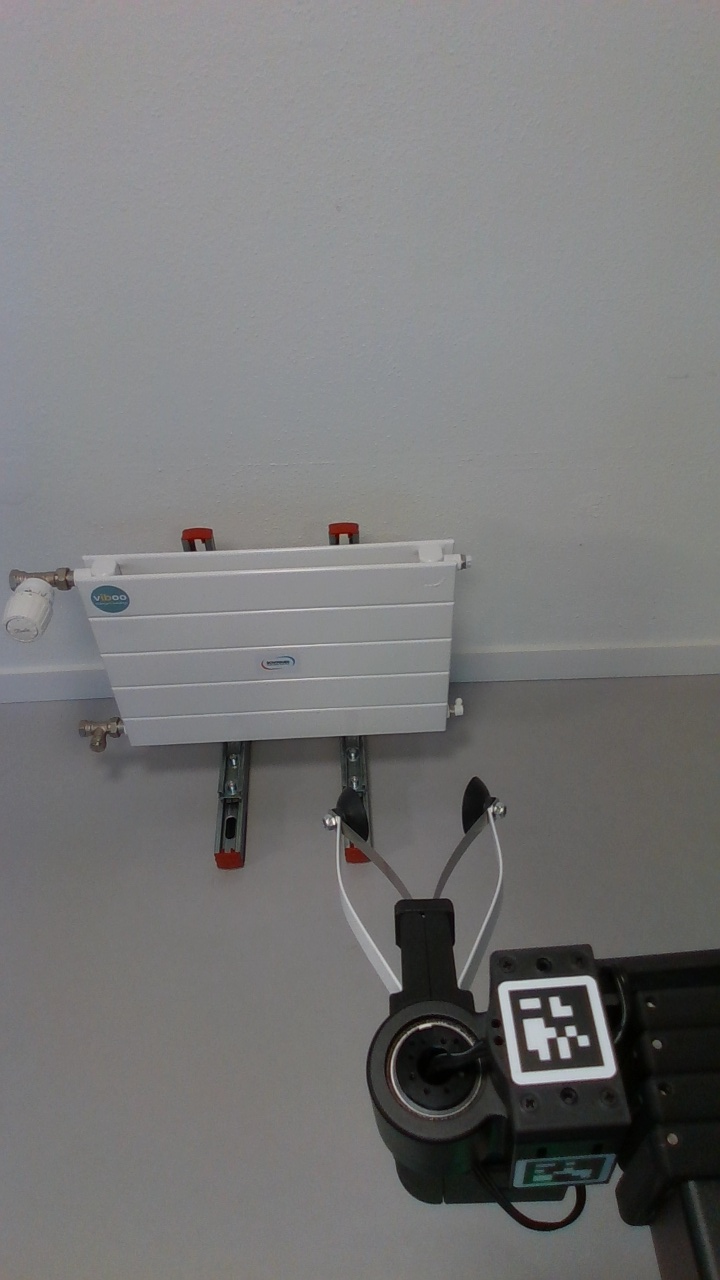Knob_Radiator: (1, 574, 76, 657)
Radiator: (66, 530, 478, 767)
